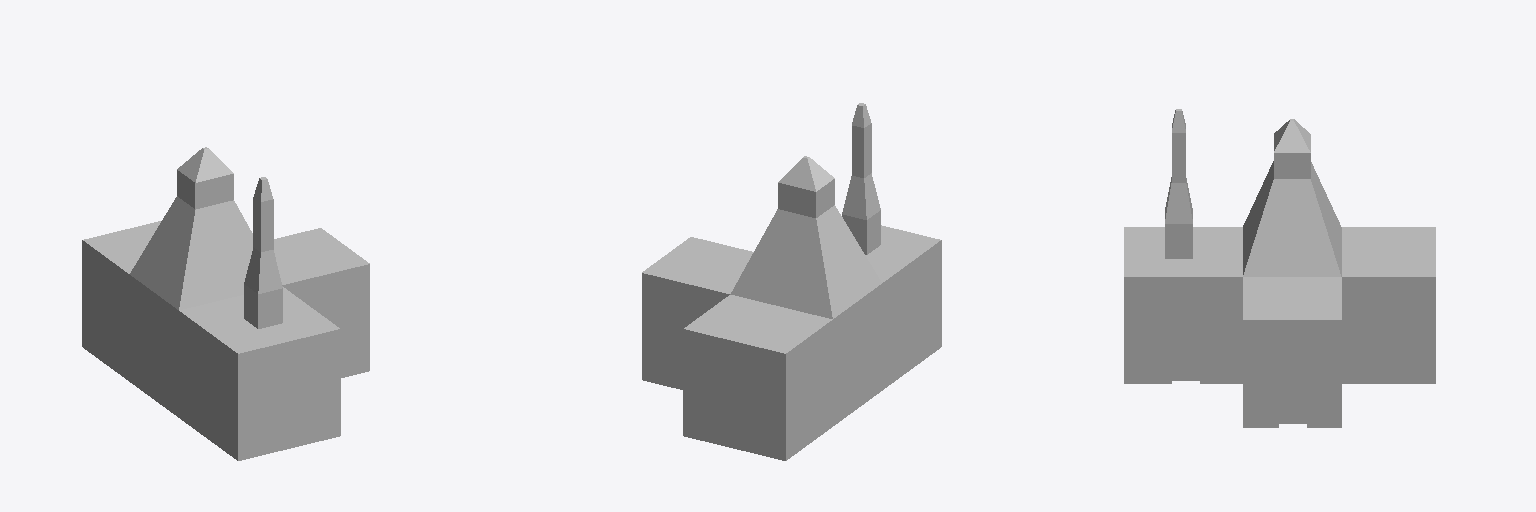
File: katedra.obj
3 renders of one model, left to right at view 1: azimuth 30°, elevation 25°; view 2: azimuth 150°, elevation 25°; view 3: azimuth 270°, elevation 25°, orthographic.
Parts seen in each view (by area): view 1: Cube_Cube.002; view 2: Cube_Cube.002; view 3: Cube_Cube.002.
Boxes of the visible parts, x1=… form: Cube_Cube.002: x1=82, y1=147, x2=369, y2=460; Cube_Cube.002: x1=642, y1=103, x2=941, y2=460; Cube_Cube.002: x1=1124, y1=109, x2=1435, y2=427.
Size of the model in its own units: 3.73 by 4.66 by 5.26.